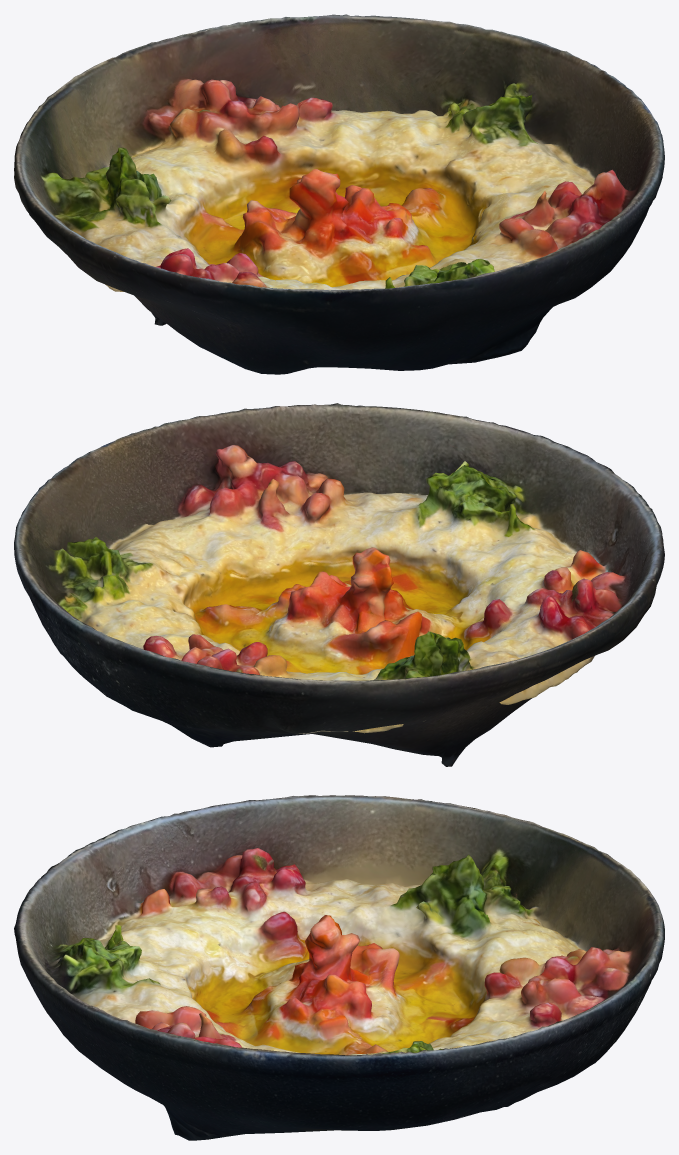
The model's file is Mtabal Breakfast.glb.
3 renders of one model, top to bottom at view 1: azimuth 30°, elevation 25°; view 2: azimuth 150°, elevation 25°; view 3: azimuth 270°, elevation 25°, orthographic.
Visible parts, largest first — view 1: ObjectCapture; view 2: ObjectCapture; view 3: ObjectCapture.
Part boxes in pixels (left/top/right/bottom): ObjectCapture: left=14, top=14, right=664, bottom=374; ObjectCapture: left=14, top=403, right=664, bottom=766; ObjectCapture: left=14, top=795, right=664, bottom=1140.
Size of the model in its own units: 0.1794 by 0.0514 by 0.1804.
Materials: 1 (1 with a texture image).
